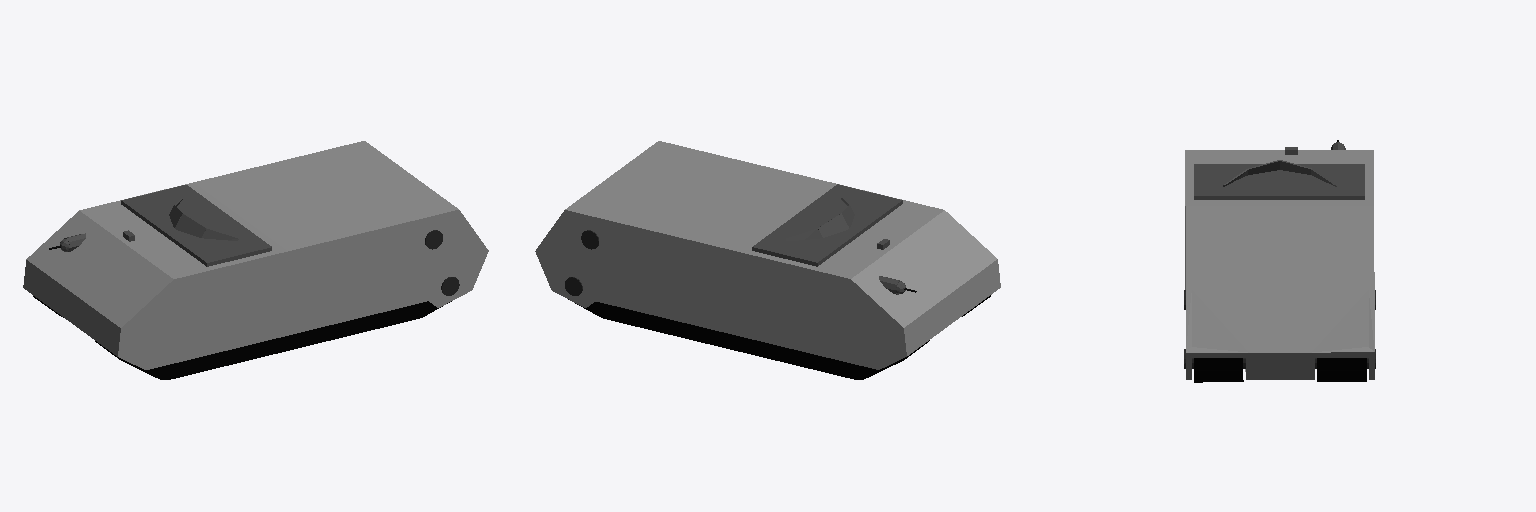
File: tankbody06.obj
3 renders of one model, left to right at view 1: azimuth 30°, elevation 25°; view 2: azimuth 150°, elevation 25°; view 3: azimuth 270°, elevation 25°, orthographic.
Visible parts, largest first — view 1: Box054, Box063, Box055; view 2: Box054, Box063, Box056; view 3: Box054, Box063, Box056, Box055.
Boxes of the visible parts, x1,y1,x2,y2 form: Box054: [23, 141, 488, 369]; Box063: [121, 185, 271, 266]; Box055: [95, 301, 451, 379]; Box054: [535, 141, 1000, 369]; Box063: [752, 184, 902, 266]; Box056: [568, 299, 929, 379]; Box054: [1185, 150, 1374, 379]; Box063: [1194, 164, 1364, 199]; Box056: [1317, 358, 1366, 381]; Box055: [1194, 358, 1243, 382].
Size of the model in its own units: 125 by 39.01 by 56.02.